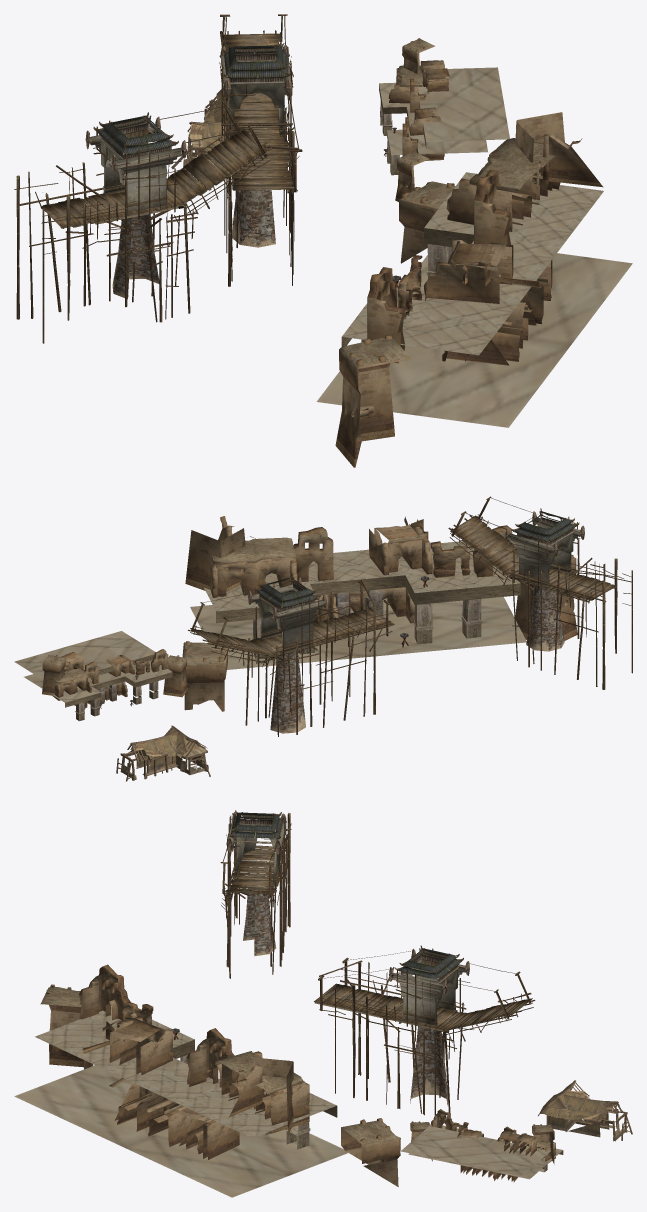
The model's file is s_battle_04_house_02.FBX.
3 views of the same model, one above another, from view 1: azimuth 30°, elevation 25°; view 2: azimuth 150°, elevation 25°; view 3: azimuth 270°, elevation 25° (orthographic). The views are drawn at different scales.
Visible parts, largest first — view 1: house2; view 2: house2; view 3: house2.
Part boxes in pixels (left/top/right/bottom): house2: left=14, top=14, right=632, bottom=467; house2: left=14, top=496, right=632, bottom=781; house2: left=14, top=810, right=632, bottom=1197.
Bounding box in the file's own units: 236 × 98.95 × 252.
Materials: 1 (1 with a texture image).
